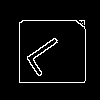L: (24, 29, 76, 78)
